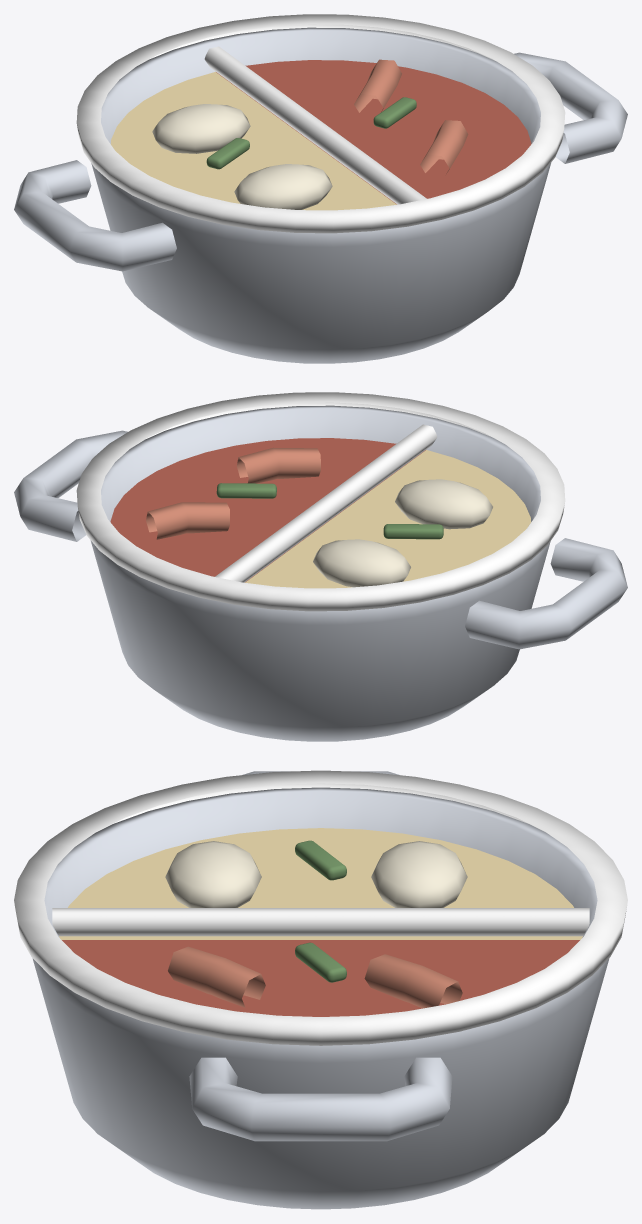
The model's file is option-hotpot.glb.
3 renders of one model, top to bottom at view 1: azimuth 30°, elevation 25°; view 2: azimuth 150°, elevation 25°; view 3: azimuth 270°, elevation 25°, orthographic. The views are drawn at different scales.
Parts seen in each view (by area): view 1: Model_Hotpot_Base, Model_Hotpot_Surface, Model_Hotpot_Tomato, Model_Hotpot_Bread, Model_Hotpot_Rice, Model_Hotpot_Salmon, Model_Hotpot_Leaf; view 2: Model_Hotpot_Base, Model_Hotpot_Surface, Model_Hotpot_Tomato, Model_Hotpot_Bread, Model_Hotpot_Rice, Model_Hotpot_Salmon, Model_Hotpot_Leaf; view 3: Model_Hotpot_Base, Model_Hotpot_Surface, Model_Hotpot_Tomato, Model_Hotpot_Bread, Model_Hotpot_Rice, Model_Hotpot_Salmon, Model_Hotpot_Leaf.
Part boxes in pixels (x1=…): Model_Hotpot_Base: x1=14, y1=27, x2=627, y2=363; Model_Hotpot_Surface: x1=76, y1=14, x2=565, y2=233; Model_Hotpot_Tomato: x1=216, y1=60, x2=531, y2=204; Model_Hotpot_Bread: x1=111, y1=72, x2=396, y2=210; Model_Hotpot_Rice: x1=152, y1=104, x2=332, y2=209; Model_Hotpot_Salmon: x1=354, y1=59, x2=468, y2=173; Model_Hotpot_Leaf: x1=206, y1=97, x2=416, y2=169; Model_Hotpot_Base: x1=14, y1=405, x2=627, y2=741; Model_Hotpot_Surface: x1=76, y1=392, x2=565, y2=611; Model_Hotpot_Tomato: x1=110, y1=438, x2=425, y2=582; Model_Hotpot_Bread: x1=245, y1=450, x2=530, y2=588; Model_Hotpot_Rice: x1=313, y1=479, x2=492, y2=587; Model_Hotpot_Salmon: x1=146, y1=447, x2=320, y2=539; Model_Hotpot_Leaf: x1=216, y1=483, x2=443, y2=539; Model_Hotpot_Base: x1=32, y1=771, x2=609, y2=1209; Model_Hotpot_Surface: x1=14, y1=770, x2=627, y2=1045; Model_Hotpot_Tomato: x1=62, y1=940, x2=579, y2=1016; Model_Hotpot_Bread: x1=59, y1=828, x2=582, y2=939; Model_Hotpot_Rice: x1=165, y1=841, x2=467, y2=907; Model_Hotpot_Salmon: x1=168, y1=946, x2=462, y2=1008; Model_Hotpot_Leaf: x1=295, y1=840, x2=346, y2=982.
Bounding box in the file's own units: 0.9037 × 0.274 × 0.686.
